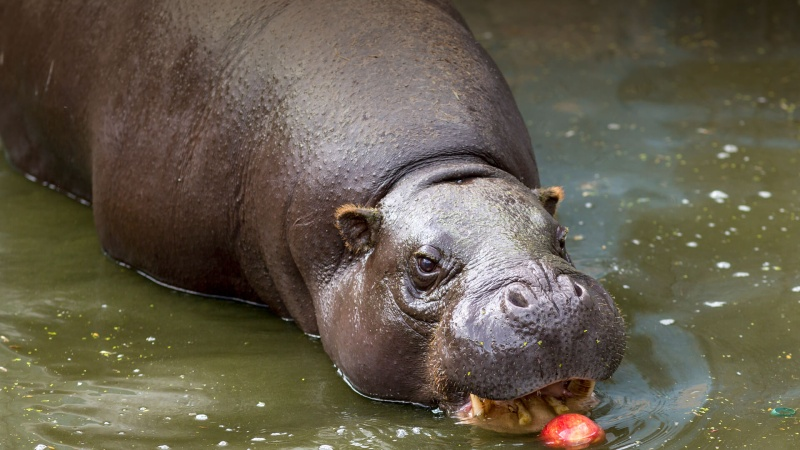hipopotamo: (16, 2, 641, 422)
